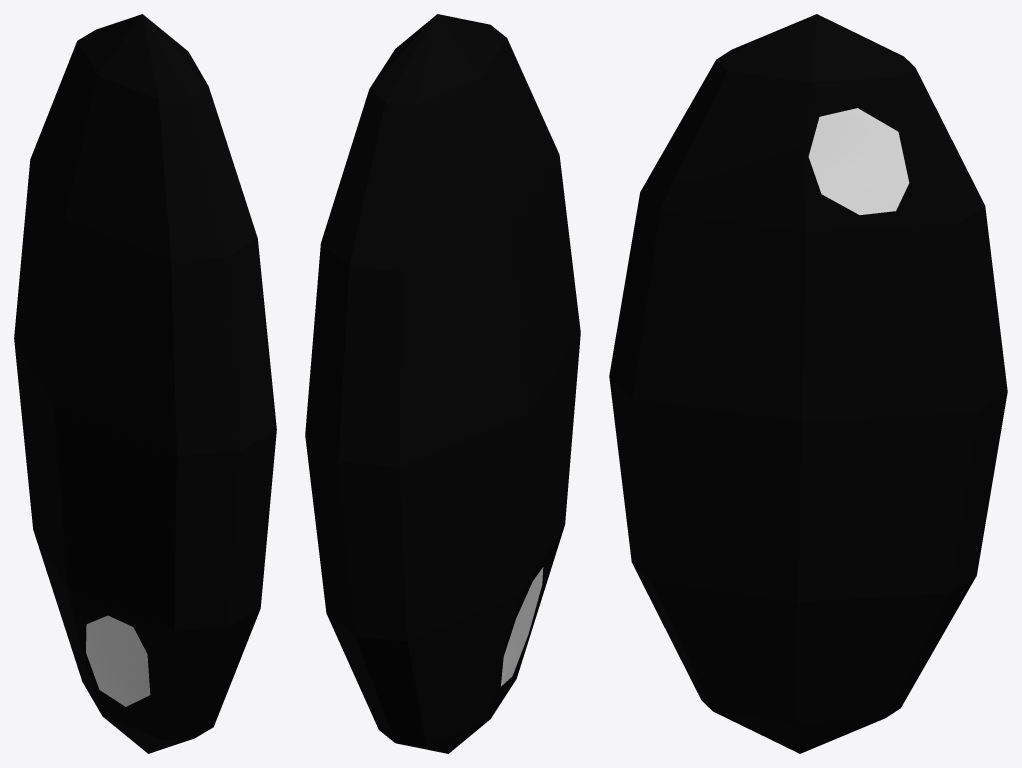
The model's file is Fx_Mesh_watermelon_Seed_Ver3.fbx.
3 renders of one model, left to right at view 1: azimuth 30°, elevation 25°; view 2: azimuth 150°, elevation 25°; view 3: azimuth 270°, elevation 25°, orthographic.
Parts seen in each view (by area): view 1: Fx_Mesh_watermelon_Seed_Ver3; view 2: Fx_Mesh_watermelon_Seed_Ver3; view 3: Fx_Mesh_watermelon_Seed_Ver3.
Part boxes in pixels (x1,y1,x2,y2): Fx_Mesh_watermelon_Seed_Ver3: (14, 14, 276, 753); Fx_Mesh_watermelon_Seed_Ver3: (305, 14, 580, 753); Fx_Mesh_watermelon_Seed_Ver3: (609, 14, 1007, 753).
Bounding box in the file's own units: 2.26 × 9.02 × 4.4.
